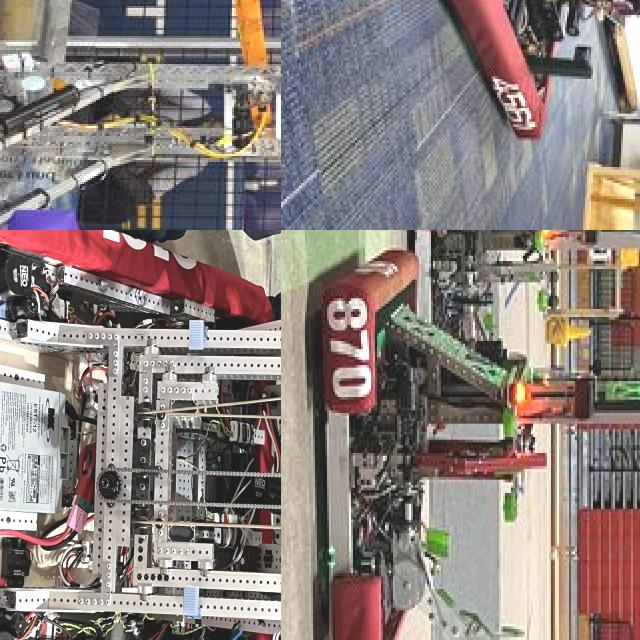FRC-Robots: (294, 285, 640, 640), (0, 230, 281, 640), (0, 0, 281, 225), (400, 0, 640, 145), (418, 230, 640, 362)
